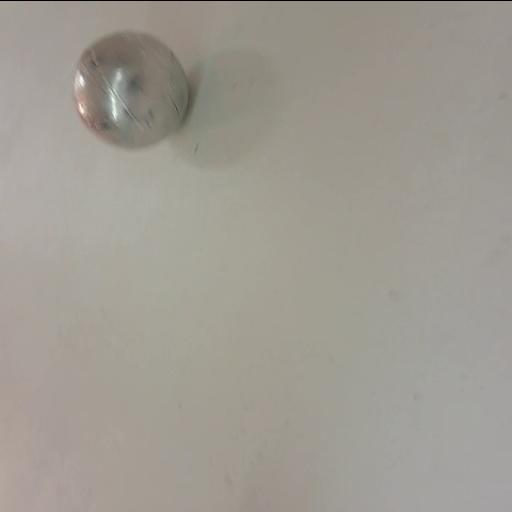alive: (71, 28, 190, 154)
